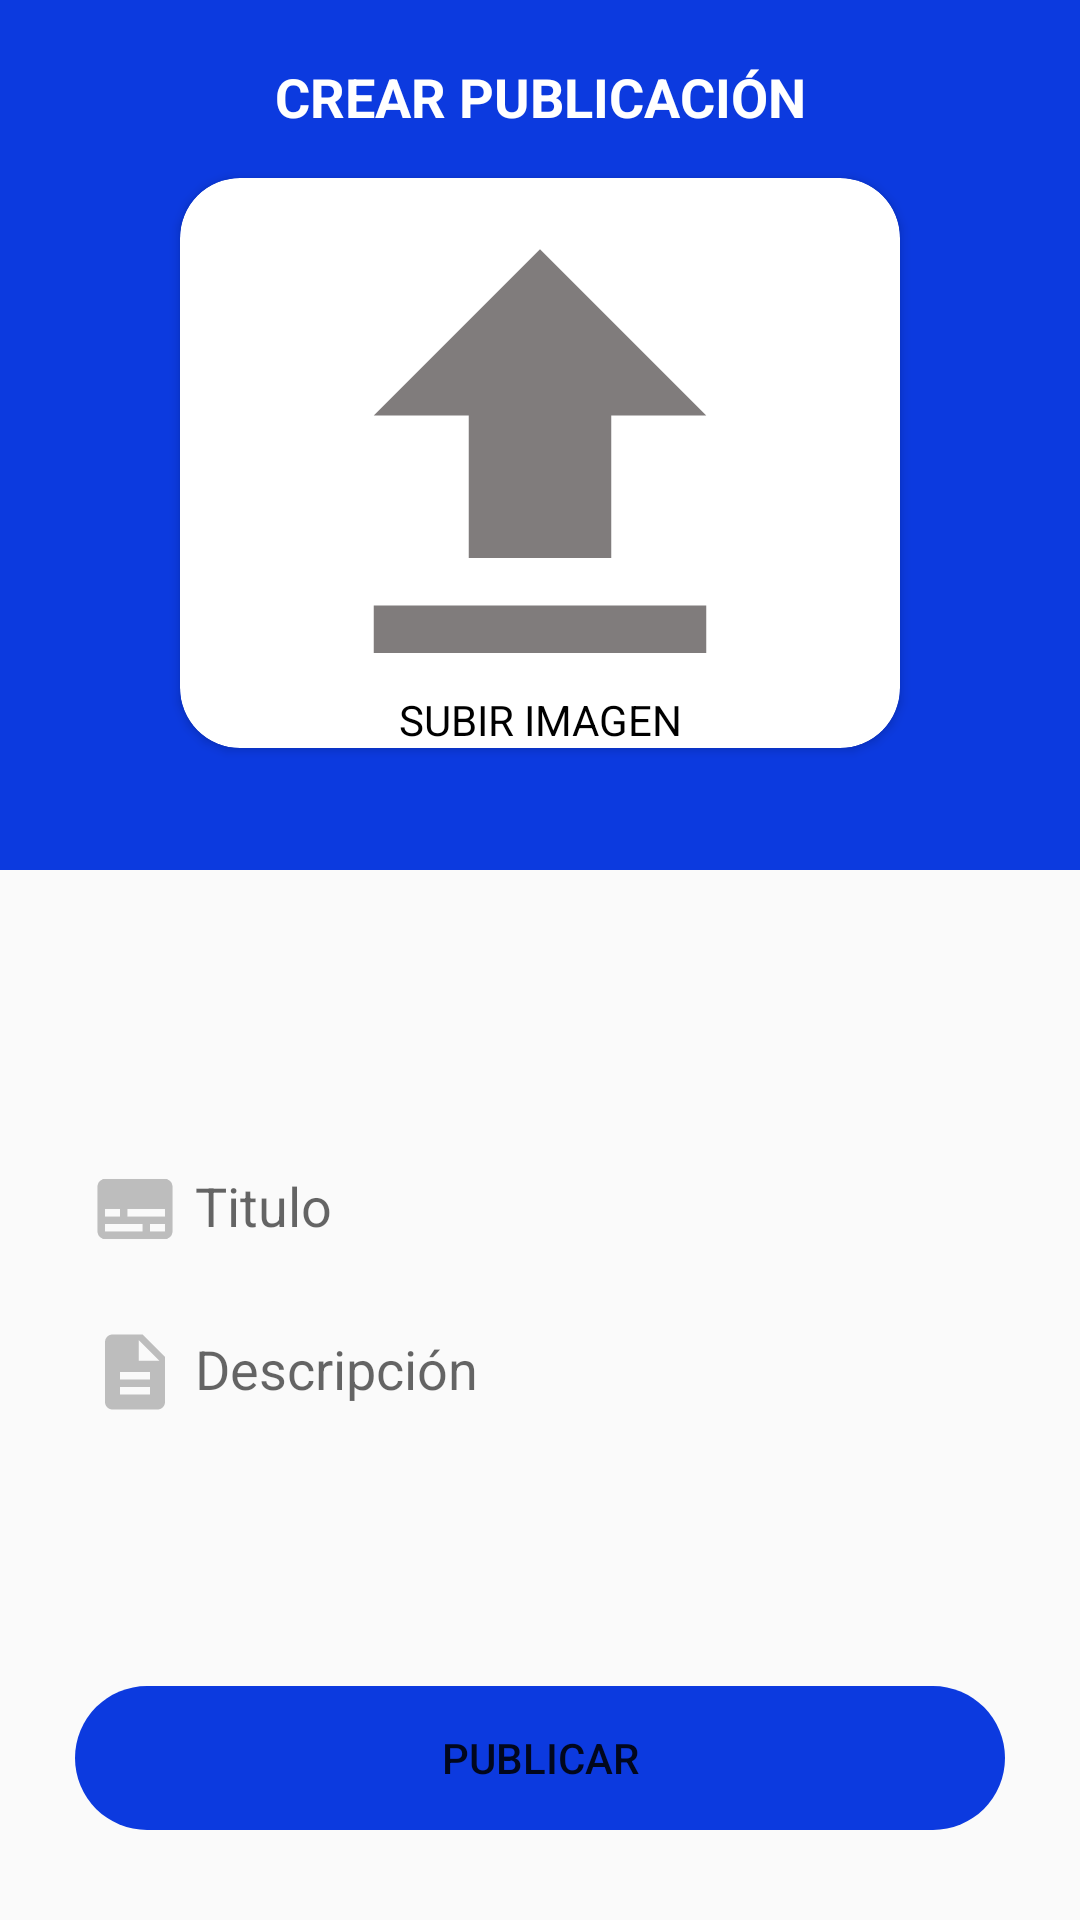

Where icons sit on this 1080px×1920px app screen, as (x1, y1, x2, y2):
description: (105, 1334, 165, 1410)
title: (97, 1179, 173, 1239)
